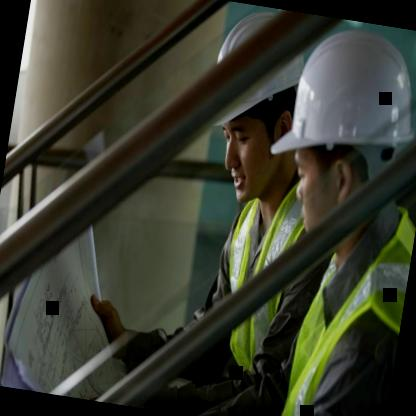helmet: (258, 17, 416, 255), (195, 8, 318, 206)
